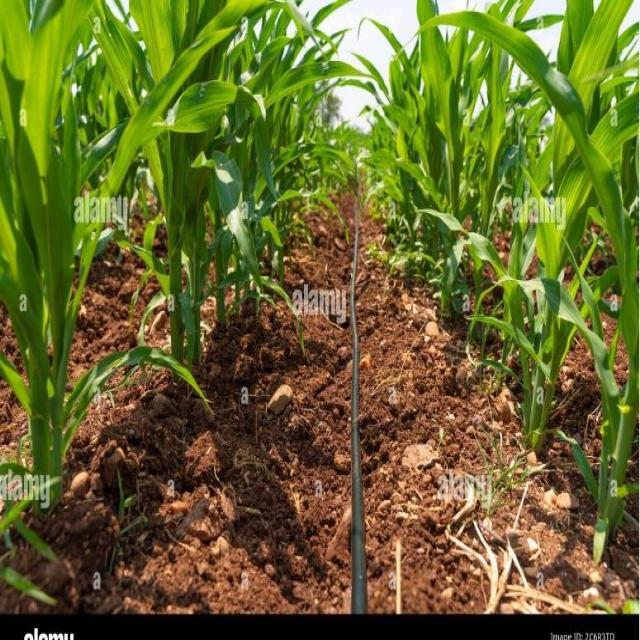row: (9, 189, 611, 611), (0, 184, 255, 466)
